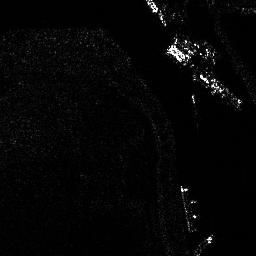ship: (191, 63, 242, 111)
